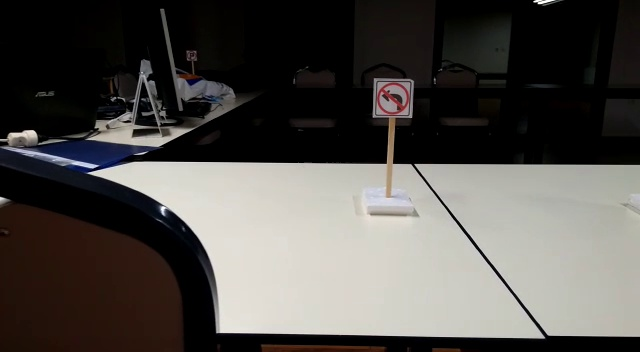sola_donulmez: (373, 76, 418, 116)
